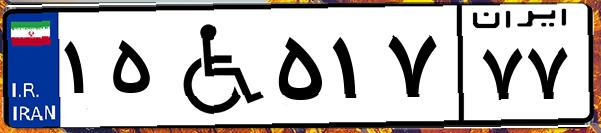1: (330, 28, 385, 110), (57, 26, 110, 100)
5: (270, 28, 330, 110), (110, 28, 158, 98)
7: (385, 28, 445, 110), (475, 38, 525, 113), (525, 38, 570, 115)
ژ (معلولین و جانبازان): (158, 12, 270, 120)
